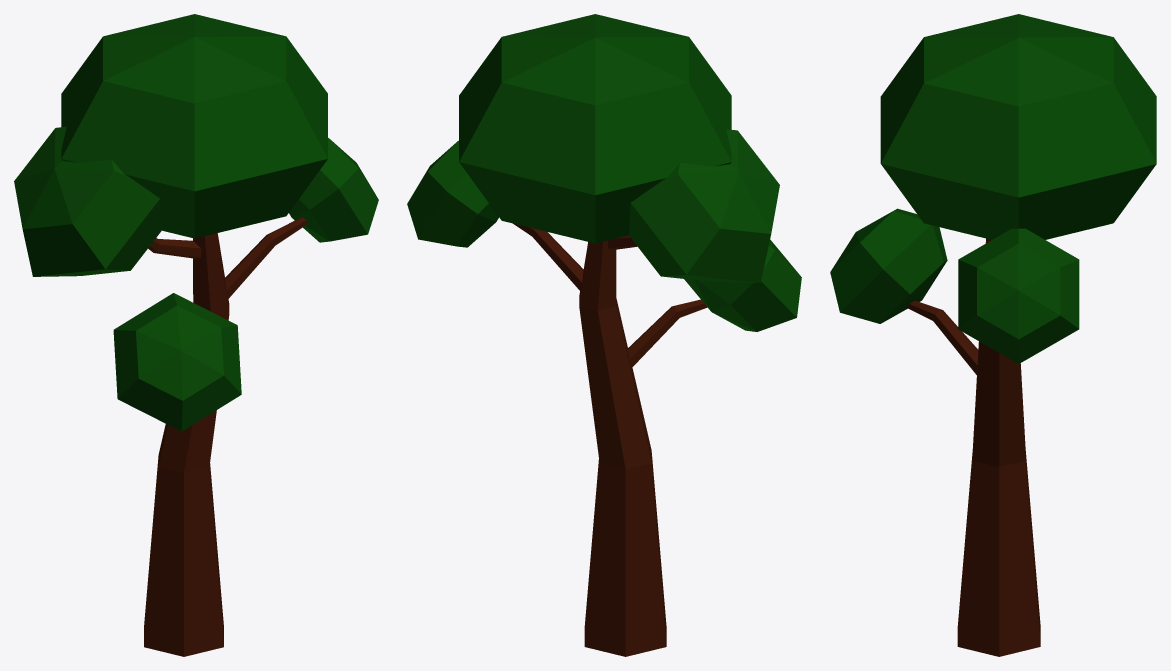
The model's file is tree1.FBX.
3 renders of one model, left to right at view 1: azimuth 30°, elevation 25°; view 2: azimuth 150°, elevation 25°; view 3: azimuth 270°, elevation 25°, orthographic. The views are drawn at different scales.
Parts seen in each view (by area): view 1: Cylinder003; view 2: Cylinder003; view 3: Cylinder003.
Part boxes in pixels (<box>): Cylinder003: <box>14,14,378,656</box>; Cylinder003: <box>407,14,801,656</box>; Cylinder003: <box>830,14,1156,656</box>.
Bounding box in the file's own units: 99.02 × 161 × 78.17.
